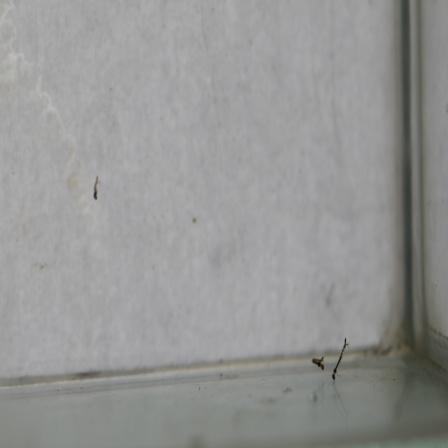Jentik-Nyamuk: (328, 334, 352, 384), (87, 171, 103, 203), (309, 352, 327, 372)
